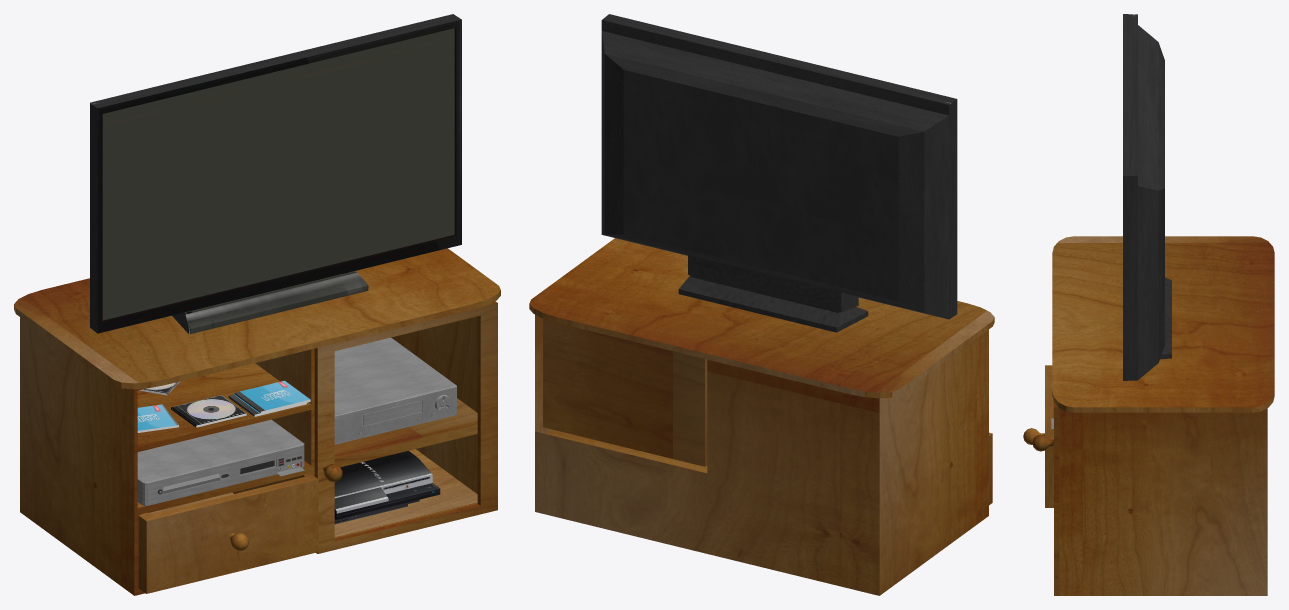
File: cabinet.glb
The picture shows the model from 3 angles, left to right: view 1: azimuth 30°, elevation 25°; view 2: azimuth 150°, elevation 25°; view 3: azimuth 270°, elevation 25°; orthographic projection. The views are drawn at different scales.
Parts seen in each view (by area): view 1: Toshiba TV, TV Cabinet, Bottom Drawer, Left Door, VHS Player, DVD Player, PS3, Disc and Case 4, Disc and Case 5, Disc and Case 1, Flap.001; view 2: TV Cabinet, Toshiba TV; view 3: TV Cabinet, Toshiba TV, Left Door, Bottom Drawer.
Boxes of the visible parts, x1,y1,x2,y2 form: Toshiba TV: [90, 14, 461, 334]; TV Cabinet: [14, 248, 500, 595]; Bottom Drawer: [138, 473, 318, 593]; Left Door: [314, 301, 497, 553]; VHS Player: [334, 337, 456, 444]; DVD Player: [137, 419, 304, 505]; PS3: [334, 451, 440, 524]; Disc and Case 4: [171, 395, 246, 427]; Disc and Case 5: [234, 380, 310, 413]; Disc and Case 1: [137, 404, 178, 432]; Flap.001: [363, 400, 421, 426]; TV Cabinet: [529, 238, 994, 595]; Toshiba TV: [601, 14, 957, 332]; TV Cabinet: [1052, 236, 1274, 595]; Toshiba TV: [1123, 14, 1171, 380]; Left Door: [1032, 403, 1059, 595]; Bottom Drawer: [1023, 365, 1053, 507].
Bounding box in the file's own units: 14.23 × 16.32 × 8.84.
Materials: 24 (22 with a texture image).
